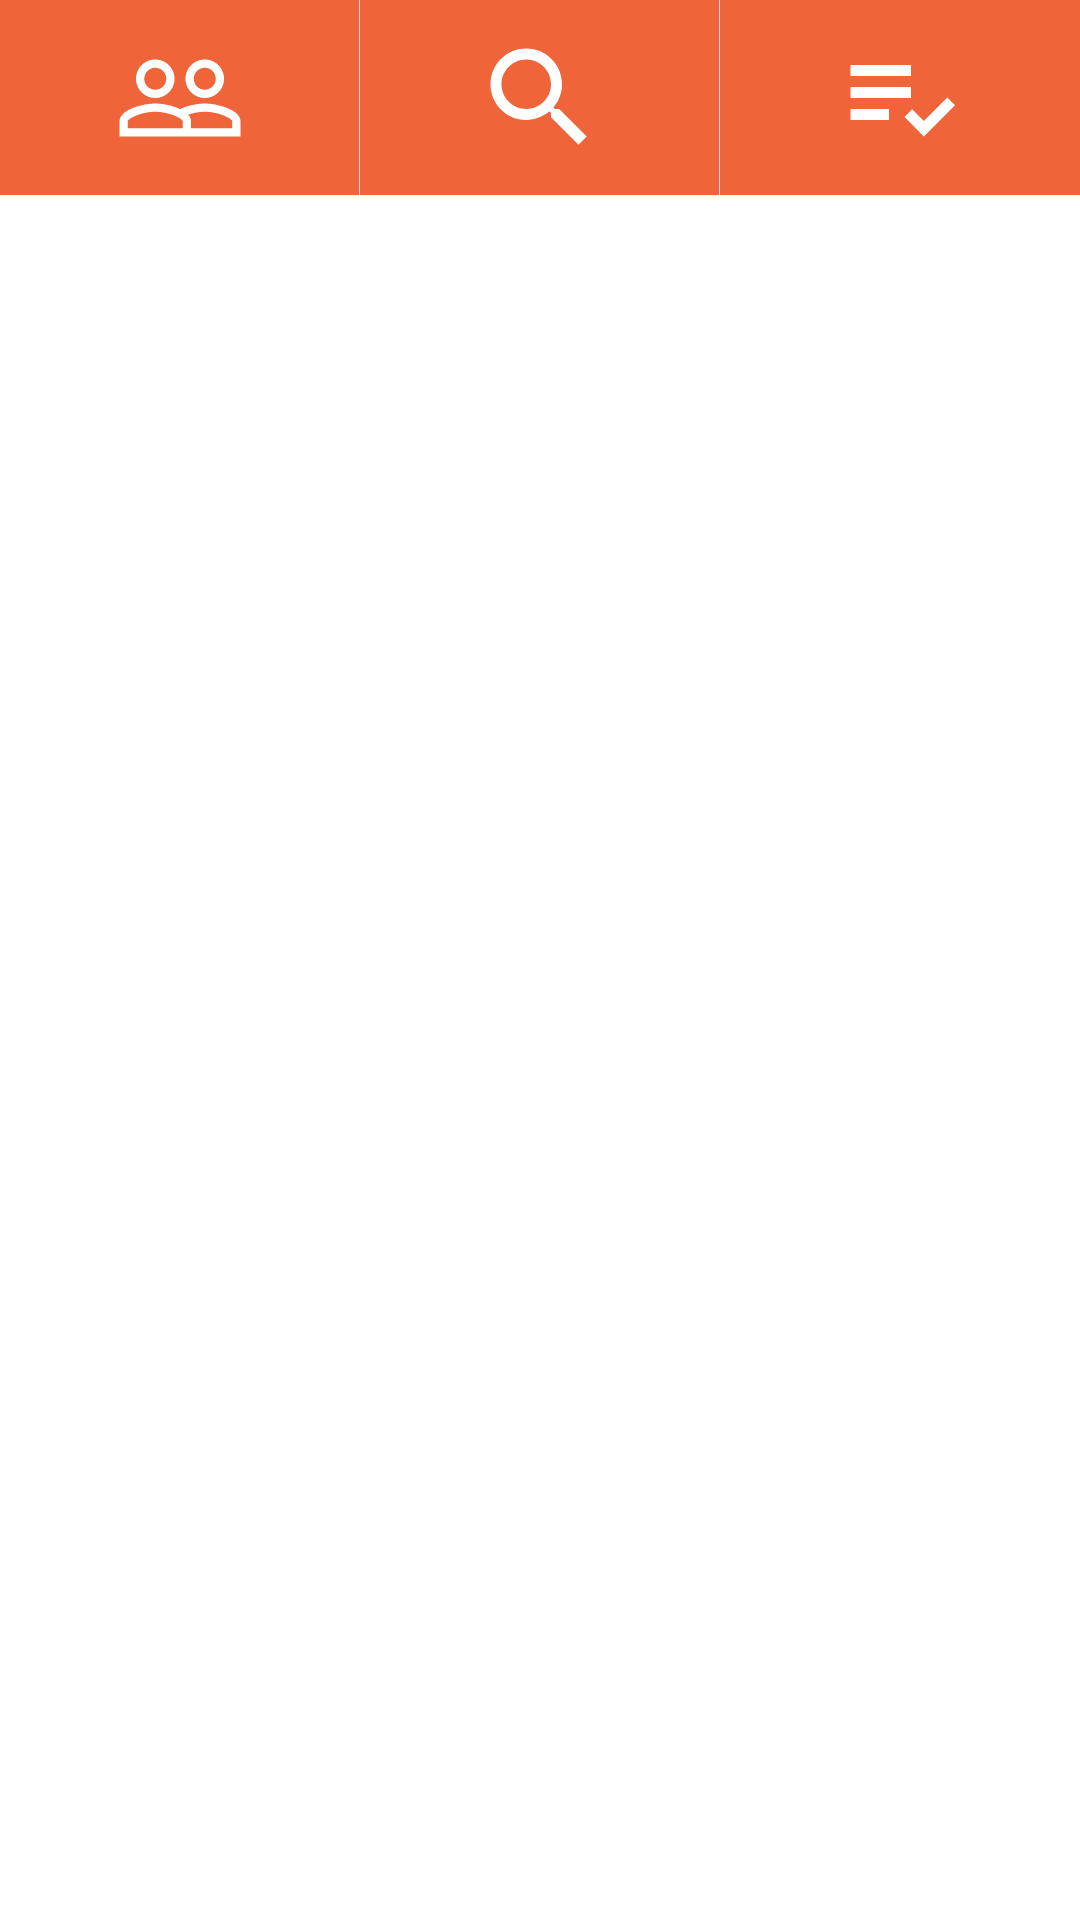

Where icons sit on this 1080 x 1920 app screen, as (x1, y1, x2, y2):
Customers: (119, 59, 241, 137)
Purchases: (850, 65, 955, 137)
Search: (490, 48, 587, 145)
